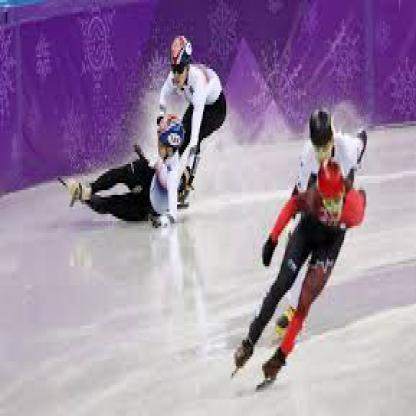Fall_Down: (69, 114, 188, 233)
